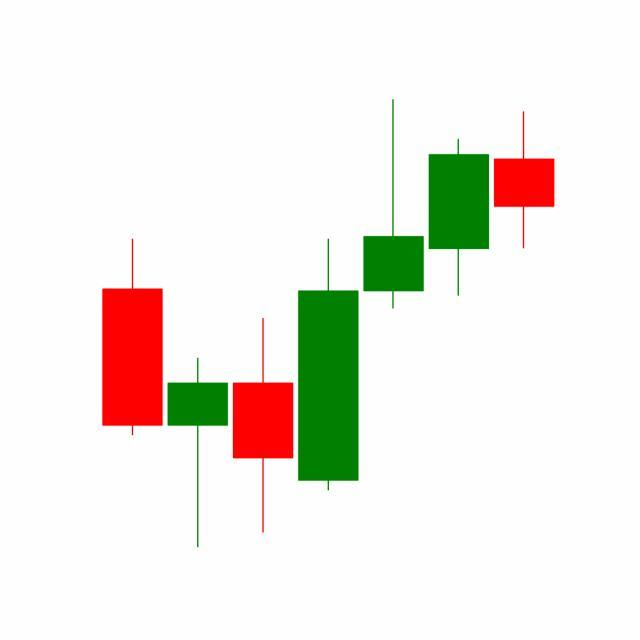Hikkake Pattern: (229, 100, 555, 539)
